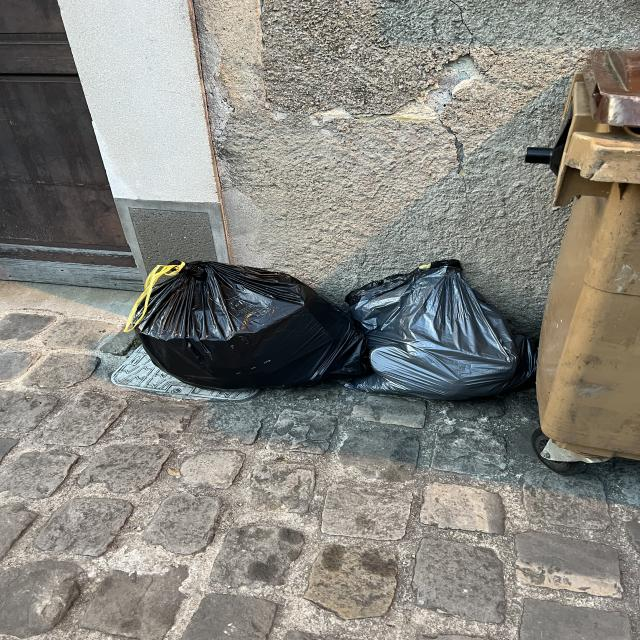Garbage bag: (131, 268, 364, 397), (362, 261, 540, 398)
